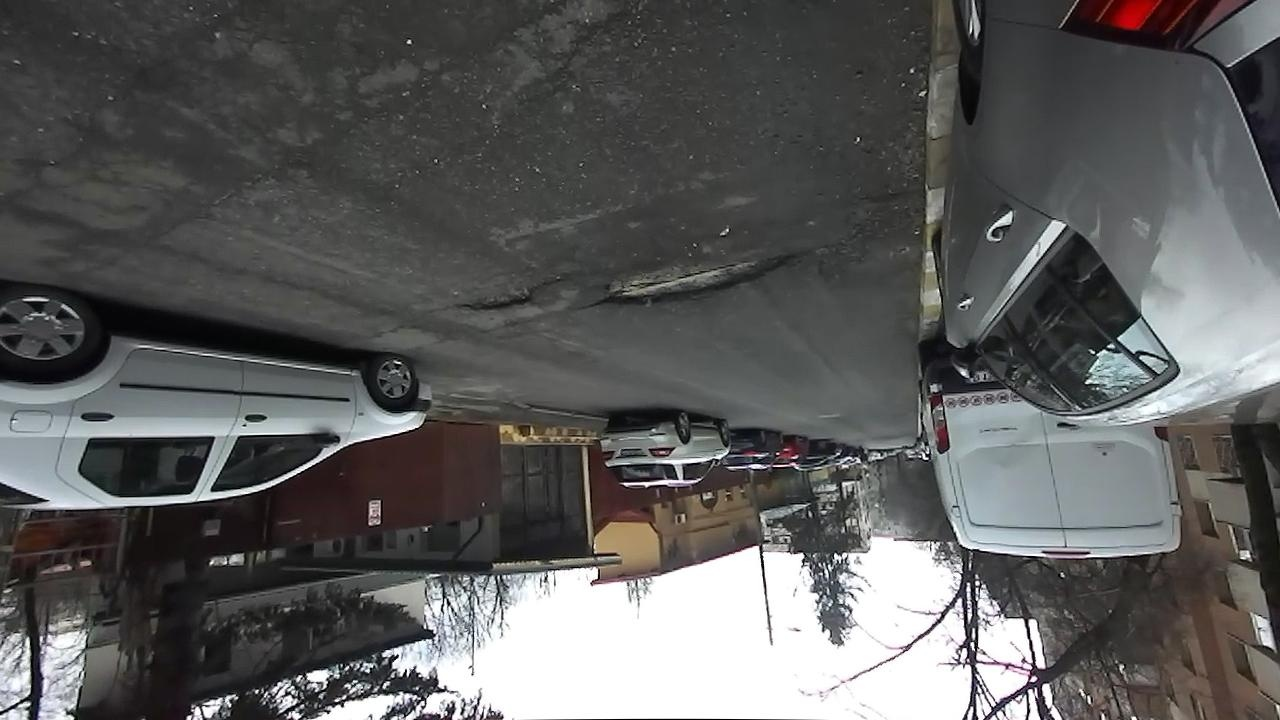pothole: (579, 243, 811, 316), (449, 273, 569, 316)
